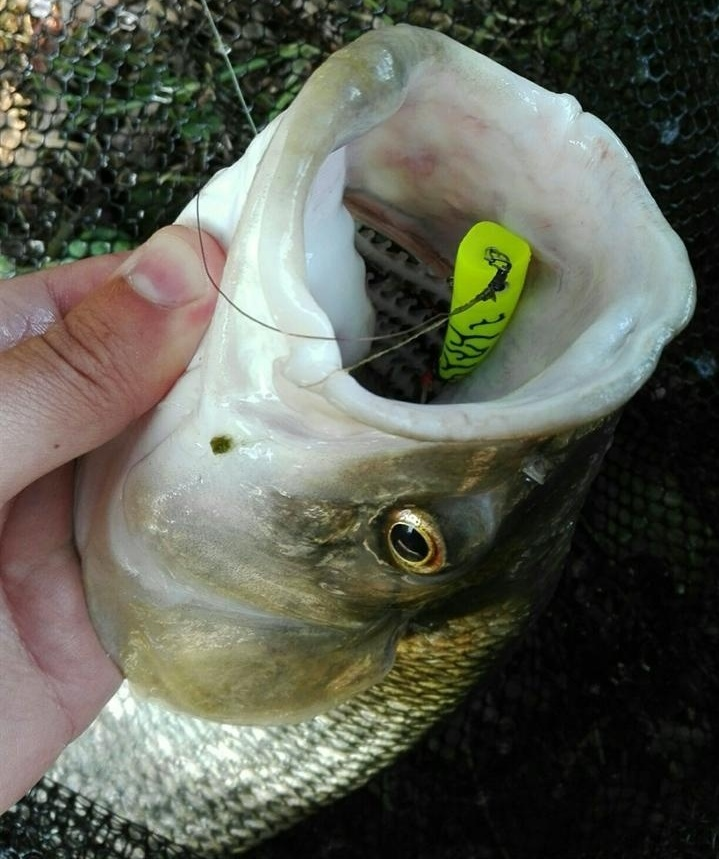Aspius aspius: (1, 20, 699, 859)
